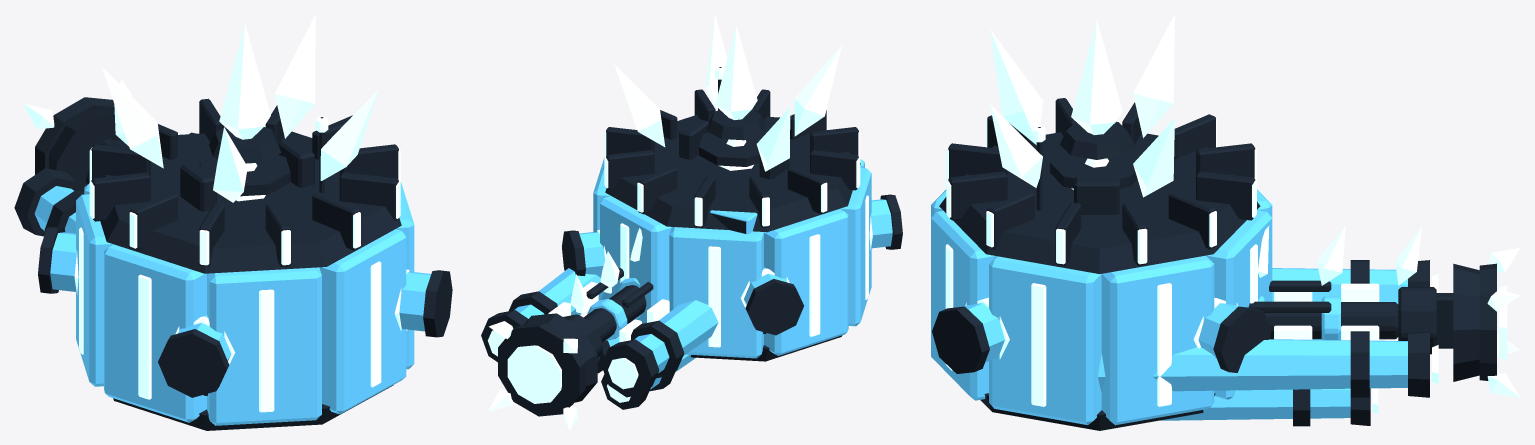
File: tower_frost3_turret.glb
The picture shows the model from 3 angles, left to right: view 1: azimuth 30°, elevation 25°; view 2: azimuth 150°, elevation 25°; view 3: azimuth 270°, elevation 25°; orthographic projection. The views are drawn at different scales.
Visible parts, largest first — view 1: TowerFrost3_Turret, TowerFrost3_Barrel; view 2: TowerFrost3_Turret, TowerFrost3_Barrel; view 3: TowerFrost3_Turret, TowerFrost3_Barrel.
Part boxes in pixels (x1,y1,x2,y2): TowerFrost3_Turret: [38, 14, 452, 430]; TowerFrost3_Barrel: [14, 80, 197, 236]; TowerFrost3_Turret: [562, 15, 902, 361]; TowerFrost3_Barrel: [481, 228, 718, 430]; TowerFrost3_Turret: [931, 14, 1272, 430]; TowerFrost3_Barrel: [1098, 226, 1520, 426].
Size of the model in its own units: 0.7131 by 0.847 by 1.23.
